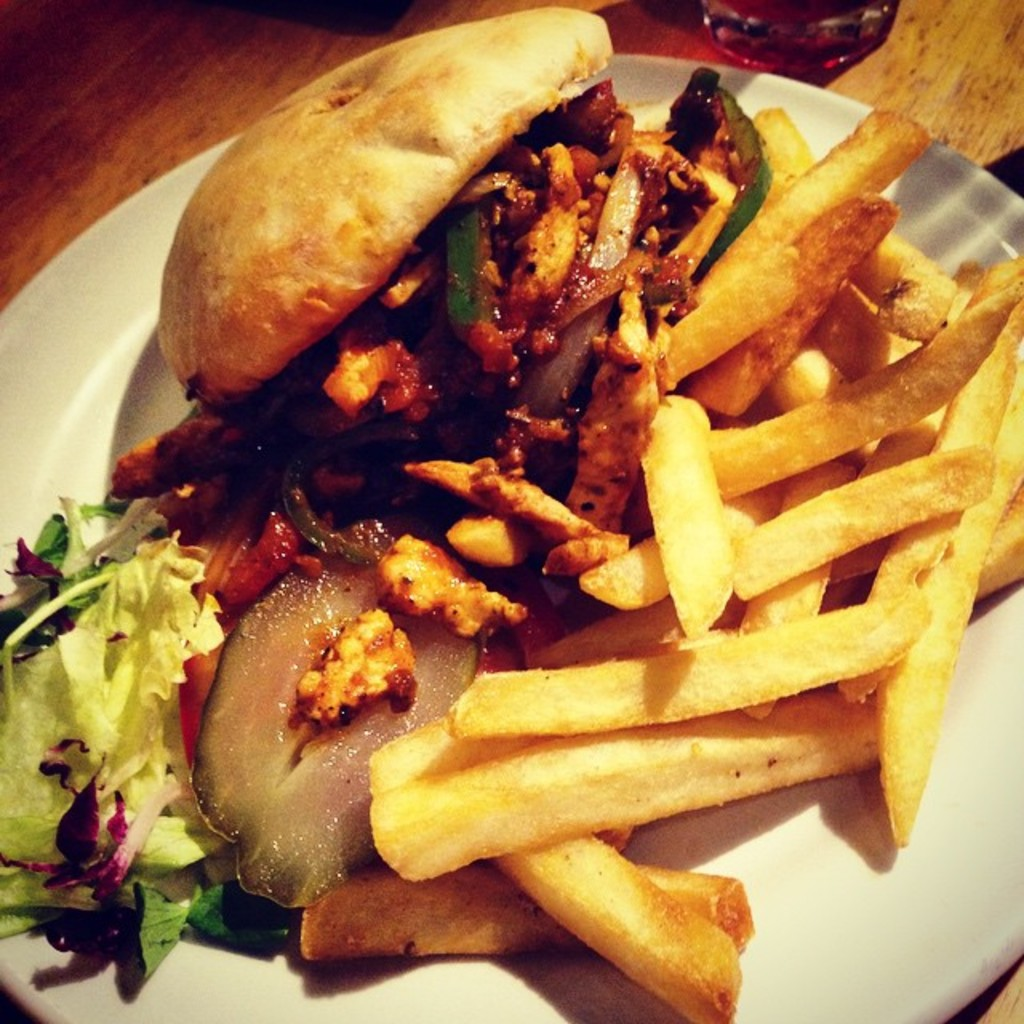French fries: (537, 0, 1009, 852)
